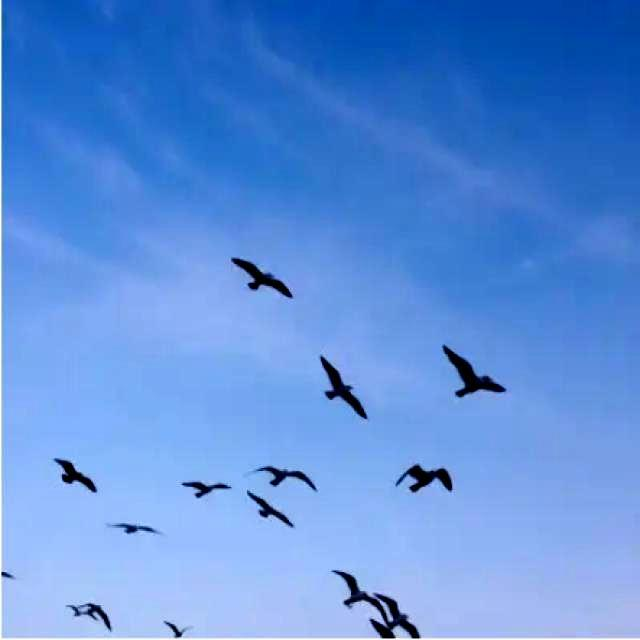bird: (445, 348, 506, 398), (322, 360, 366, 420), (330, 562, 378, 610), (232, 259, 292, 297), (398, 464, 454, 494), (384, 590, 420, 636), (54, 458, 94, 493), (254, 466, 315, 488), (253, 496, 292, 526), (180, 480, 232, 501), (108, 523, 160, 537), (88, 598, 112, 624), (164, 621, 190, 640), (66, 606, 90, 623)
